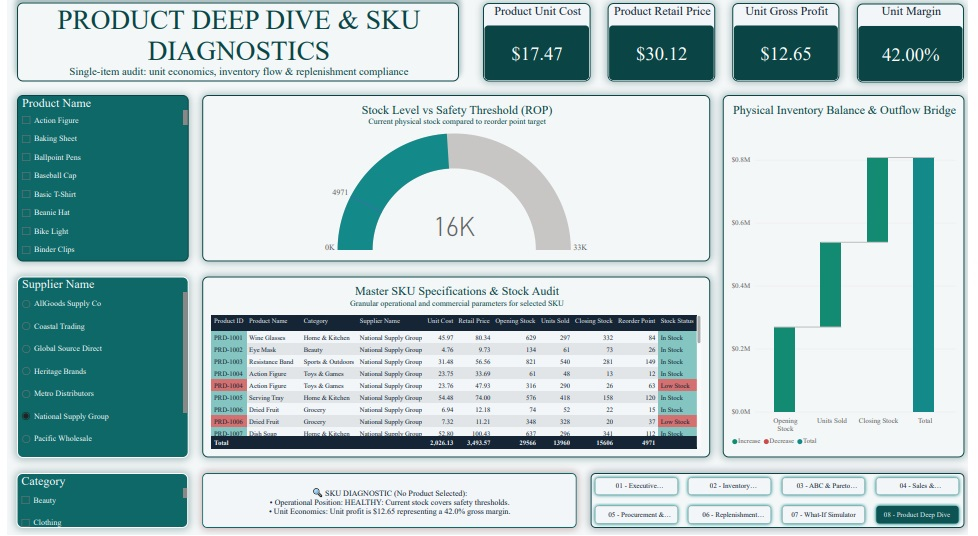

The dashboard page shown, as its layout file describes it:
{"tool":"powerbi","page":{"name":"08 - Product Deep Dive","canvas":[1920,1080],"ordinal":7},"visuals":[{"type":"textbox","title":"PRODUCT DEEP DIVE & SKU DIAGNOSTICS","box":[20,15,882.5,157.5],"z":0},{"type":"cardVisual","fields":{"Data":["_Measure.Product Deep Dive Insight"]},"box":[390,956,748,110],"z":1000},{"type":"gauge","title":"Stock Level vs Safety Threshold (ROP)","fields":{"MaxValue":["_Measure.Gauge Max Stock"],"TargetValue":["_Measure.Selected Reorder Point"],"Y":["_Measure.Selected Closing Stock"]},"box":[390,200,1015,332.5],"z":2000},{"type":"cardVisual","title":"Product Unit Cost","fields":{"Data":["_Measure.Product Unit Cost"]},"box":[951.1,15.6,214.4,157.8],"z":3000},{"type":"cardVisual","title":"Unit Margin","fields":{"Data":["_Measure.Unit Margin %"]},"box":[1698,17,214.4,157.8],"z":4000},{"type":"cardVisual","title":"Unit Gross Profit","fields":{"Data":["_Measure.Unit Gross Profit"]},"box":[1449,15.6,214.4,157.8],"z":5000},{"type":"cardVisual","title":"Product Retail Price","fields":{"Data":["_Measure.Product Retail Price"]},"box":[1200.1,15.6,214.4,157.8],"z":6000},{"type":"waterfallChart","title":"Physical Inventory Balance & Outflow Bridge","fields":{"Category":["DimInventoryFlow.Flow Step"],"Y":["_Measure.Inventory Value"]},"box":[1430,200,483,725],"z":7000},{"type":"tableEx","title":"Master SKU Specifications & Stock Audit","fields":{"Values":["DimProduct.Product ID","DimProduct.Product Name","DimCategory.Category","DimSupplier.Supplier Name","Sum(FactInventory.Unit Cost)","Sum(FactInventory.Retail Price)","Sum(FactInventory.Opening Stock)","Sum(FactInventory.Units Sold)","Sum(FactInventory.Closing Stock)","Sum(FactInventory.Reorder Point)","FactInventory.Stock Status"]},"box":[390,562.5,1015,362.5],"z":8000},{"type":"slicer","fields":{"Values":["DimProduct.Product Name"]},"box":[20,200,342.5,332.5],"z":9000},{"type":"slicer","fields":{"Values":["DimSupplier.Supplier Name"]},"box":[20,563,343,363],"z":10000},{"type":"slicer","fields":{"Values":["DimCategory.Category"]},"box":[19,956,343,110],"z":11000},{"type":"pageNavigator","box":[1166,956,747,110],"z":12000}]}

Visuals, with their boxes in screenshot pixels (x1, y1, x2, y2), scaled from the page's 1920x1080 canvas onto the 978x536 screenshot:
"PRODUCT DEEP DIVE & SKU DIAGNOSTICS" textbox: Rect(10, 7, 460, 86)
cardVisual - _Measure.Product Deep Dive Insight: Rect(199, 474, 580, 529)
"Stock Level vs Safety Threshold (ROP)" gauge: Rect(199, 99, 716, 264)
"Product Unit Cost" cardVisual: Rect(484, 8, 594, 86)
"Unit Margin" cardVisual: Rect(865, 8, 974, 87)
"Unit Gross Profit" cardVisual: Rect(738, 8, 847, 86)
"Product Retail Price" cardVisual: Rect(611, 8, 721, 86)
"Physical Inventory Balance & Outflow Bridge" waterfallChart: Rect(728, 99, 974, 459)
"Master SKU Specifications & Stock Audit" tableEx: Rect(199, 279, 716, 459)
slicer - DimProduct.Product Name: Rect(10, 99, 185, 264)
slicer - DimSupplier.Supplier Name: Rect(10, 279, 185, 460)
slicer - DimCategory.Category: Rect(10, 474, 184, 529)
pageNavigator: Rect(594, 474, 974, 529)
